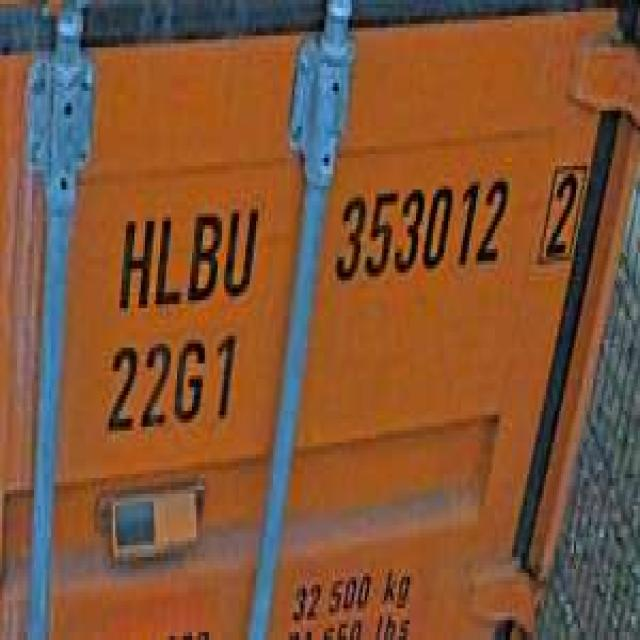dv: (536, 150, 586, 269)
owner: (111, 190, 262, 308)
serial: (328, 166, 510, 292)
size: (98, 324, 241, 442)
